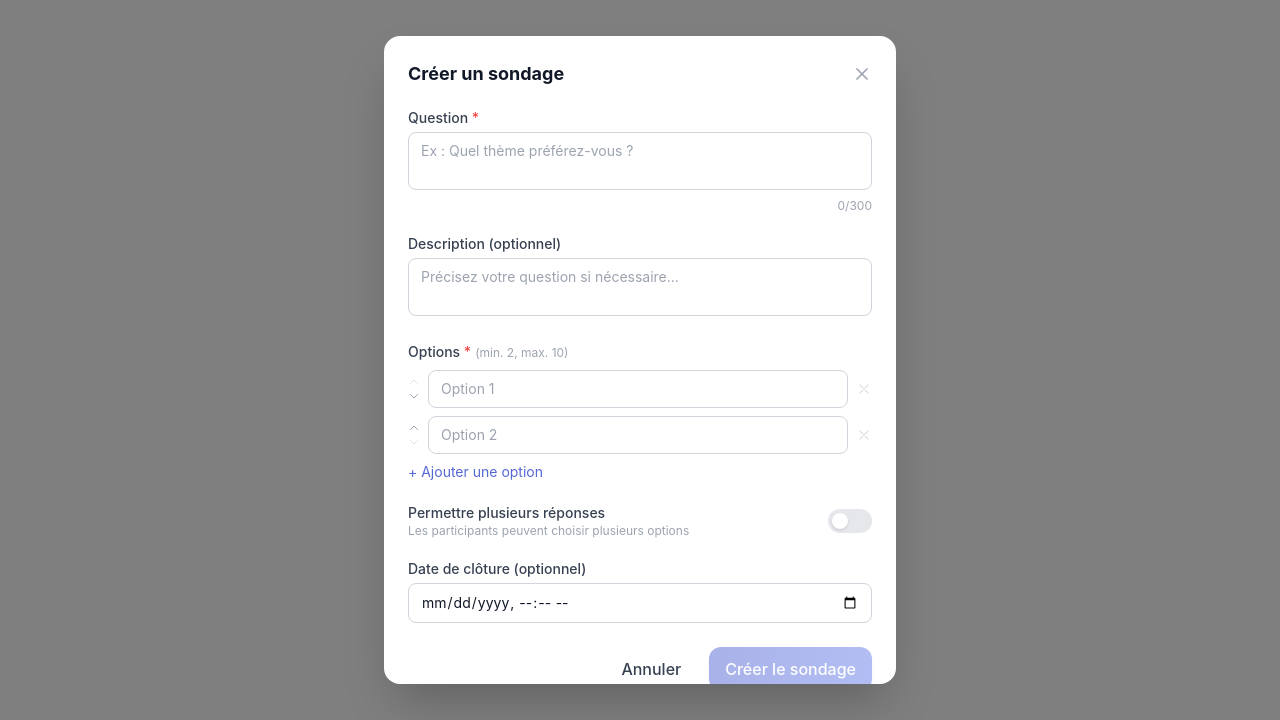
it: CreatePollModal › reorders an option with the move-down control
The width and height of the screenshot is (1280, 720).
Type "Pizza" into the field with placeholder "Option 1" at (638, 389), box [428, 370, 848, 408]
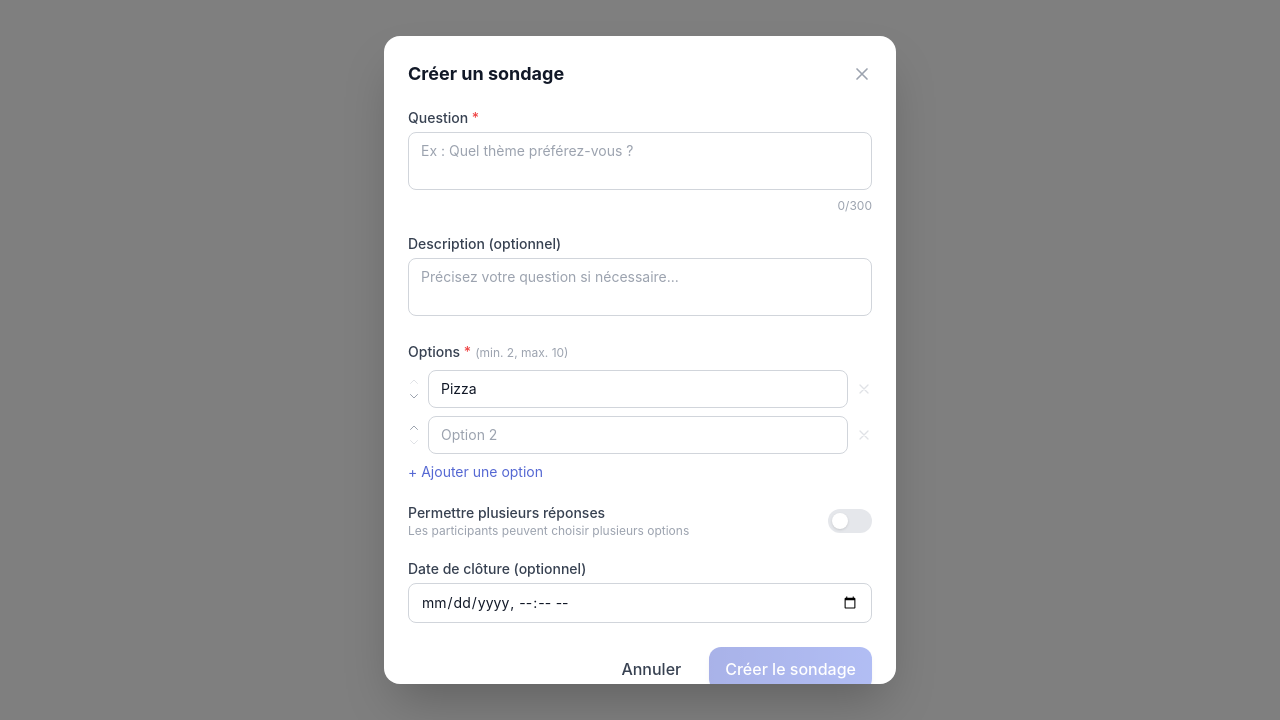
Type "Sushi" into the field with placeholder "Option 2" at (638, 435), box [428, 416, 848, 454]
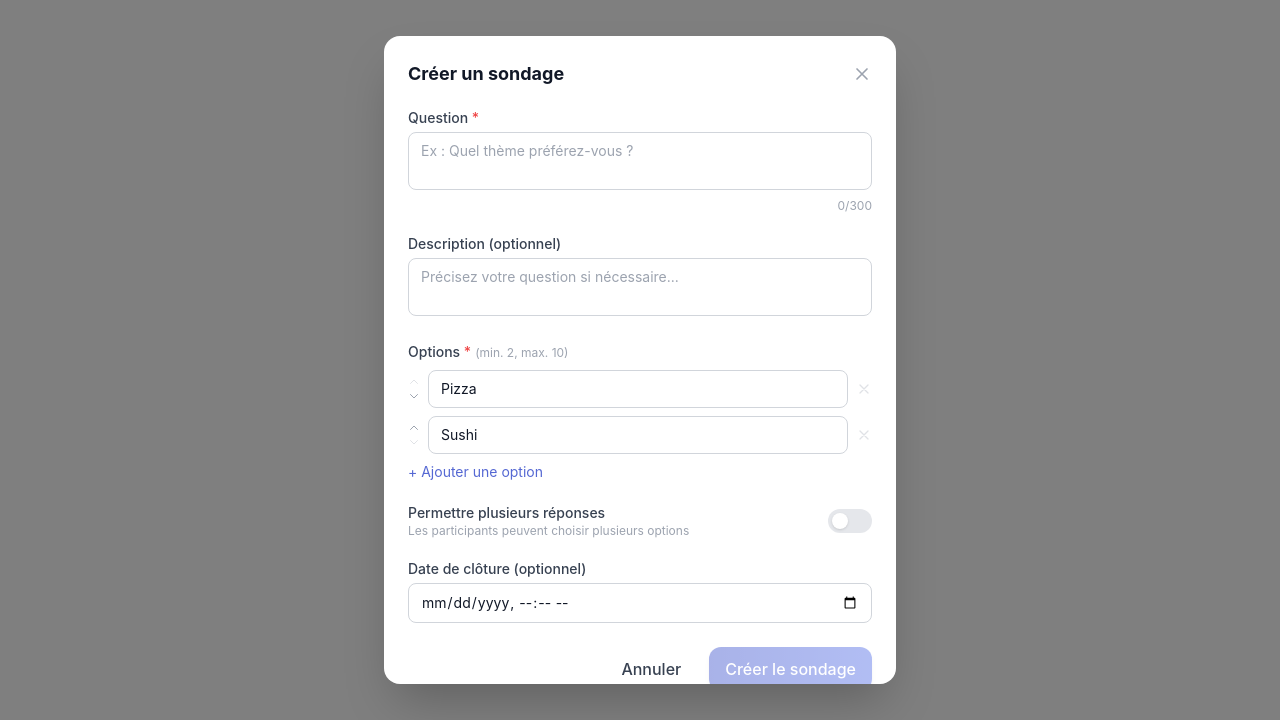
Click the 1st button named "Déplacer vers le bas" at (414, 396), box [408, 390, 420, 402]
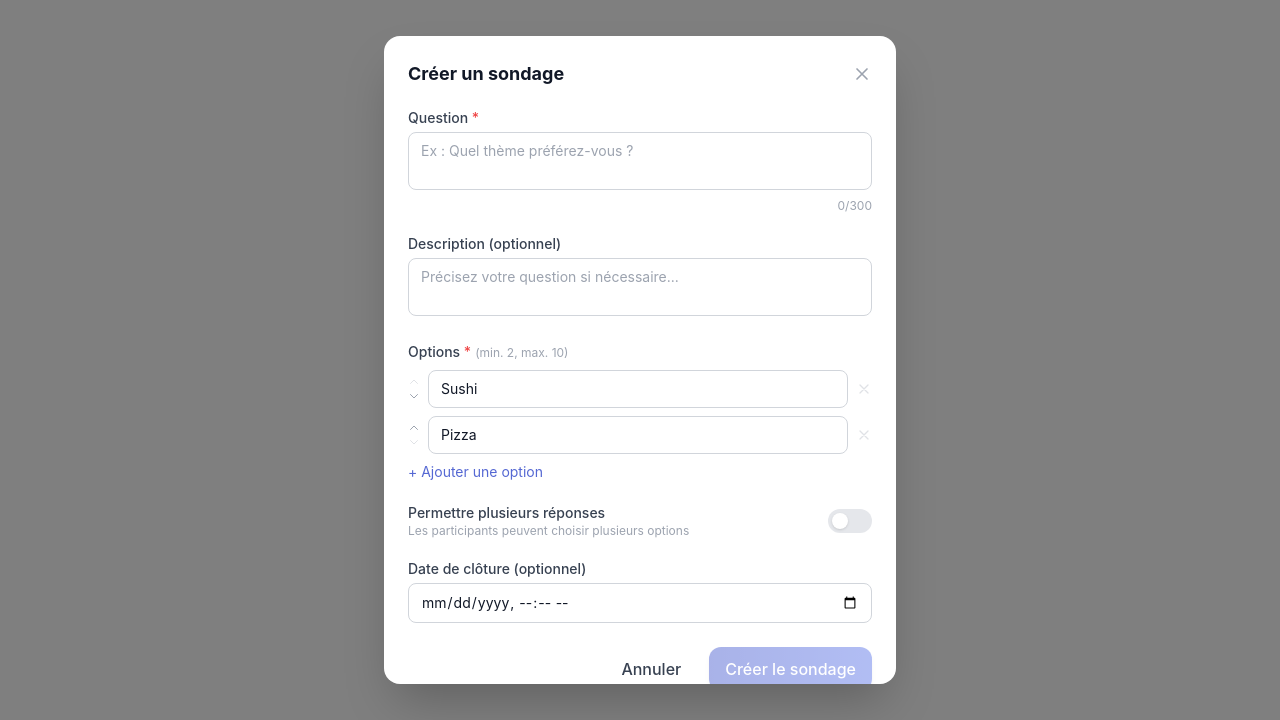
Now the field with placeholder "Option 1" holds "Sushi", box [428, 370, 848, 408]
Now the field with placeholder "Option 2" holds "Pizza", box [428, 416, 848, 454]
